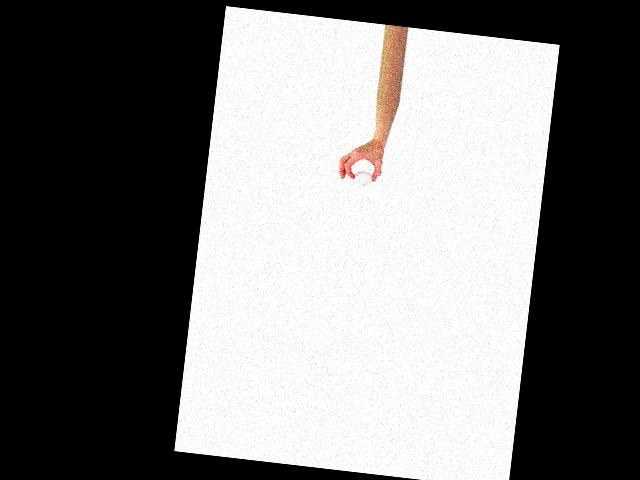egg: (353, 169, 373, 186)
